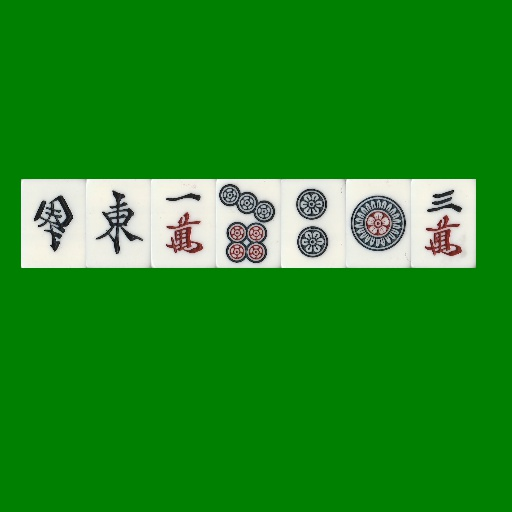1m: (151, 179, 216, 268)
1p: (346, 179, 411, 268)
2p: (281, 179, 346, 268)
3m: (411, 179, 476, 268)
7p: (216, 179, 281, 268)
east: (86, 179, 151, 268)
south: (21, 179, 86, 268)
